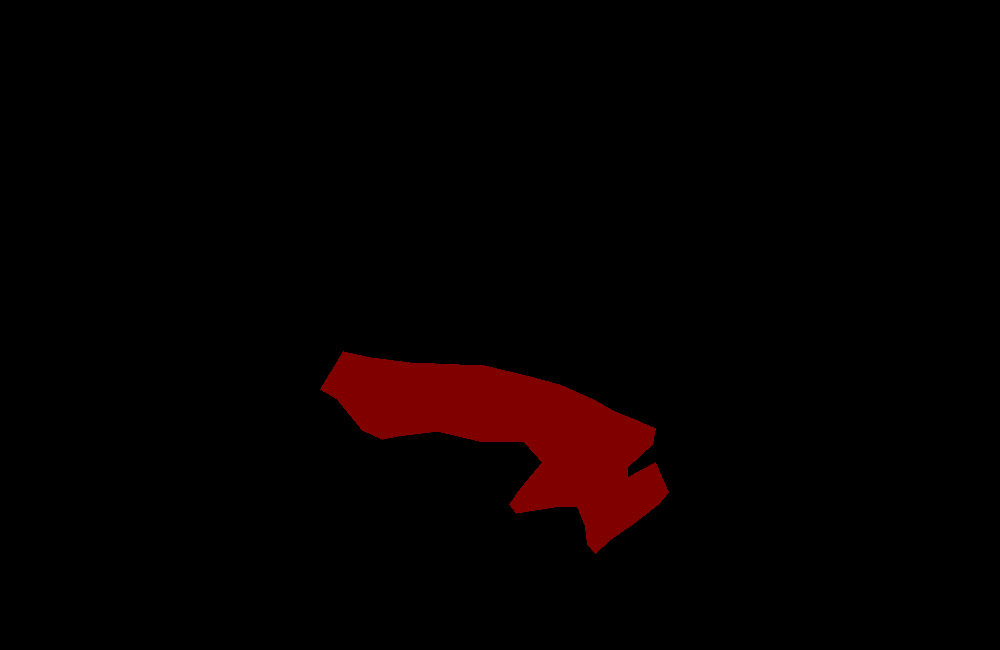fire: (320, 351, 668, 553)
